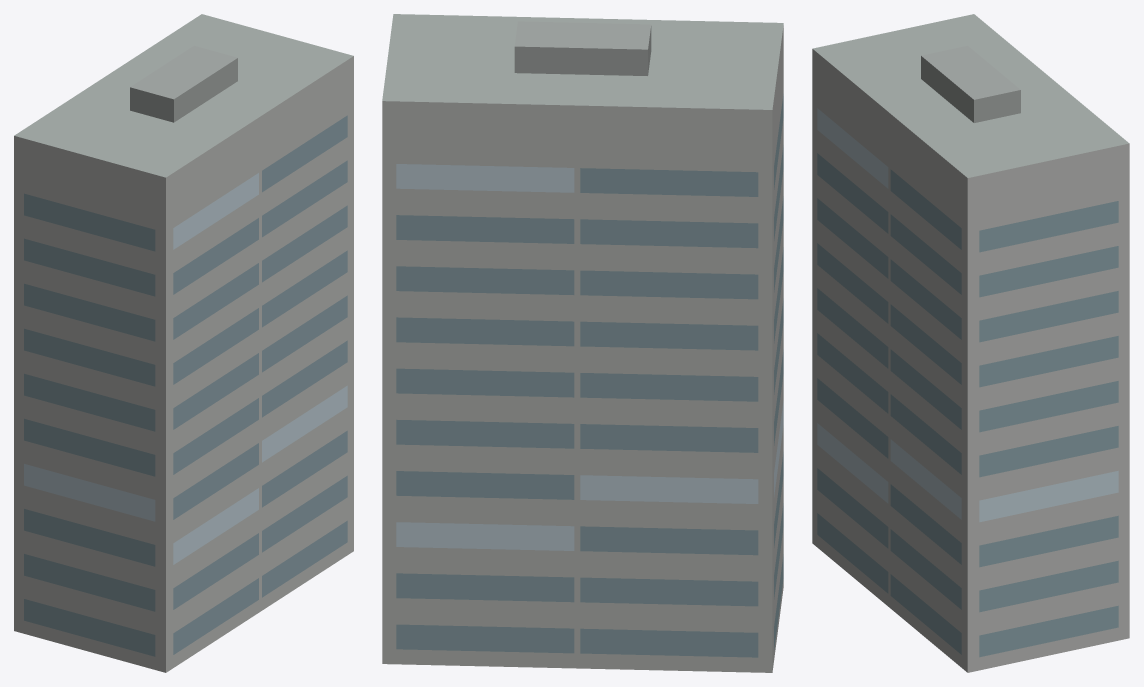
The model's file is fallback-godeok-raemian-hillstate-301.glb.
3 views of the same model, side by side, from view 1: azimuth 30°, elevation 25°; view 2: azimuth 150°, elevation 25°; view 3: azimuth 270°, elevation 25° (orthographic). The views are drawn at different scales.
Parts seen in each view (by area): view 1: fallback-godeok-raemian-hillstate-301; view 2: fallback-godeok-raemian-hillstate-301; view 3: fallback-godeok-raemian-hillstate-301.
Part boxes in pixels (x1,y1,x2,y2): fallback-godeok-raemian-hillstate-301: (14, 14, 353, 672); fallback-godeok-raemian-hillstate-301: (382, 14, 783, 672); fallback-godeok-raemian-hillstate-301: (812, 14, 1129, 672).
Size of the model in its own units: 25.82 by 38 by 21.08.
